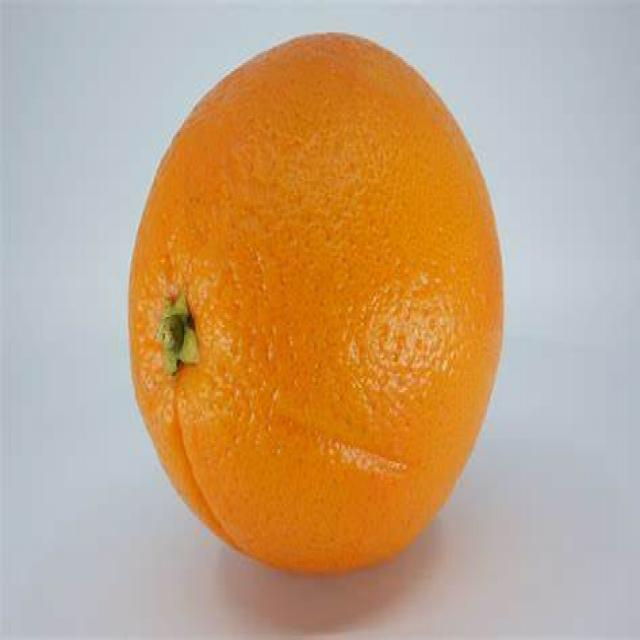Orange: (121, 26, 511, 577)
